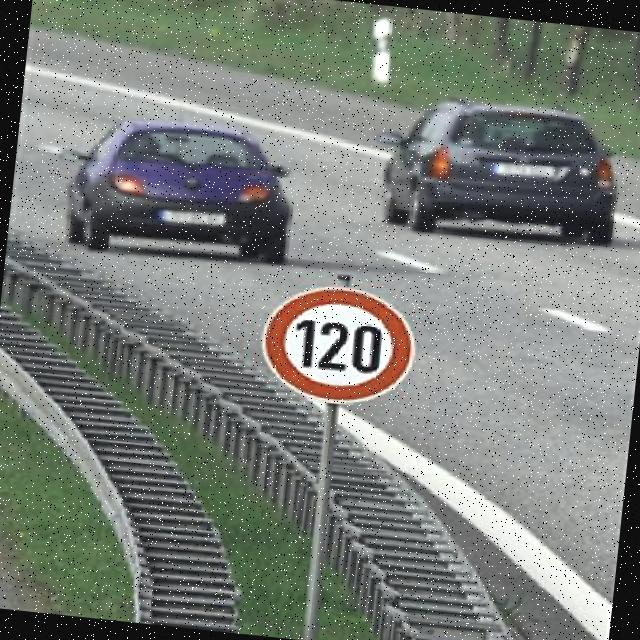Ograniczenie predkosci do 120: (260, 283, 420, 409)
